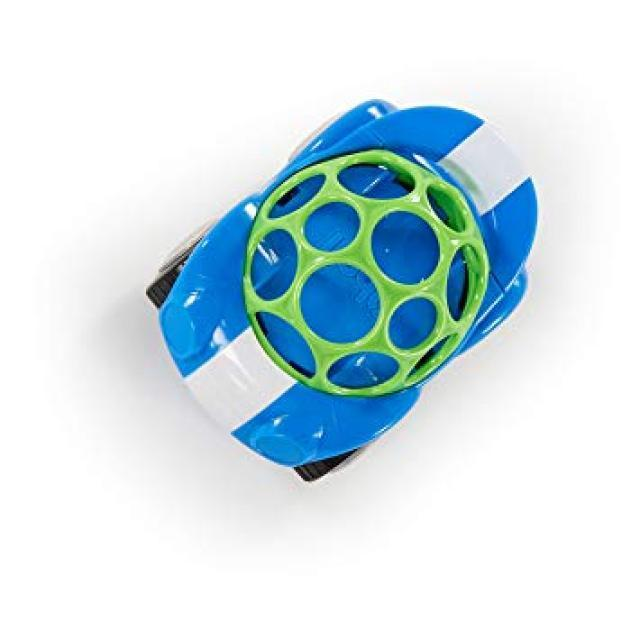hard-toy: (149, 100, 538, 480)
